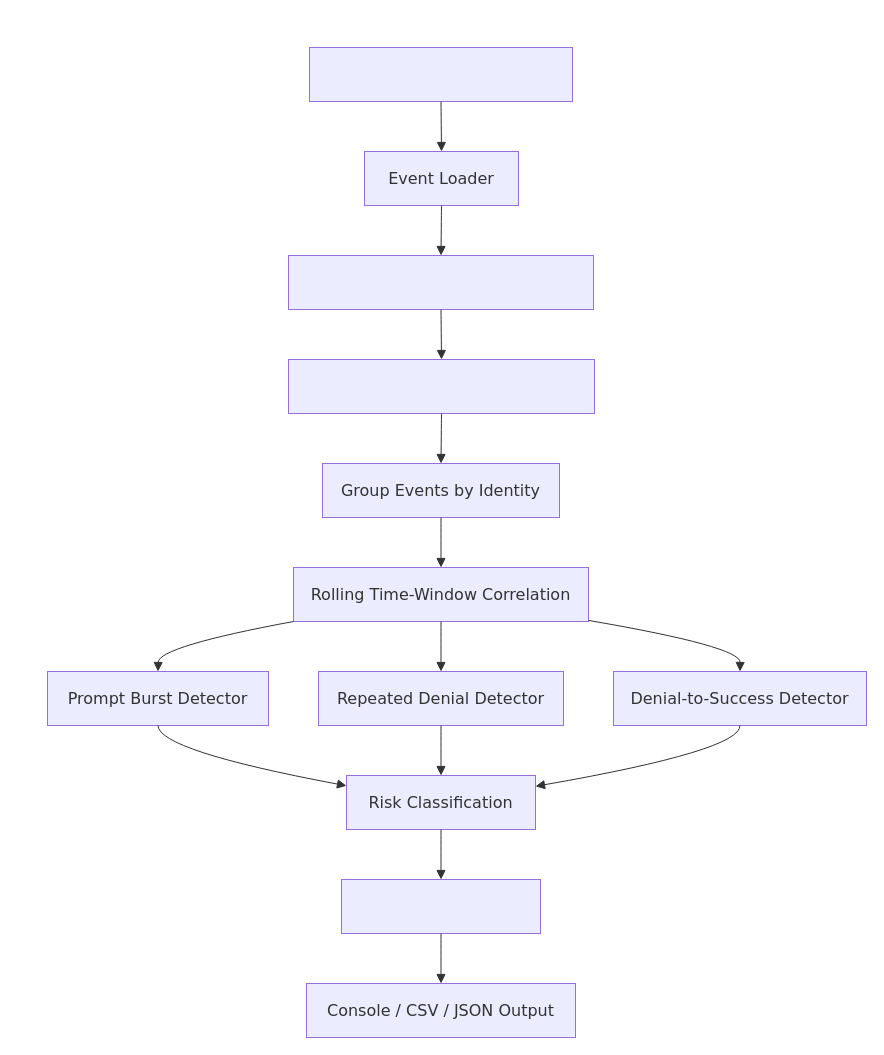
This 884x1055 diagram has some shape labels left out. The shapes that lost their labels are listed below. From the top down, each one's centre as x and y in pixels, then its label:
(x=440, y=74): Synthetic MFA Event Dataset
(x=441, y=282): Schema and Timestamp Validation
(x=441, y=386): Chronological Event Normalisation
(x=440, y=906): Explainable Finding
